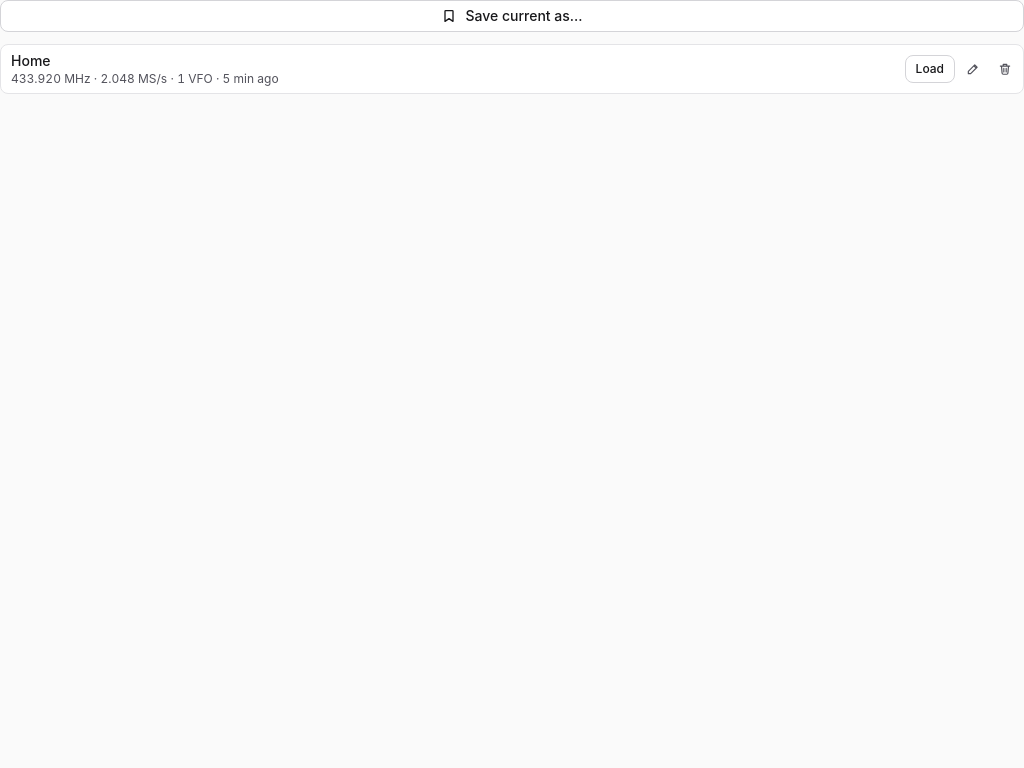
Test case: ProfilesPanel › cancelling the overwrite goes back to the name dialog
Expected: the text "Home" is shown, [11, 51, 50, 71]
Click the button "Save current as…" at (512, 16), box [0, 0, 1023, 32]
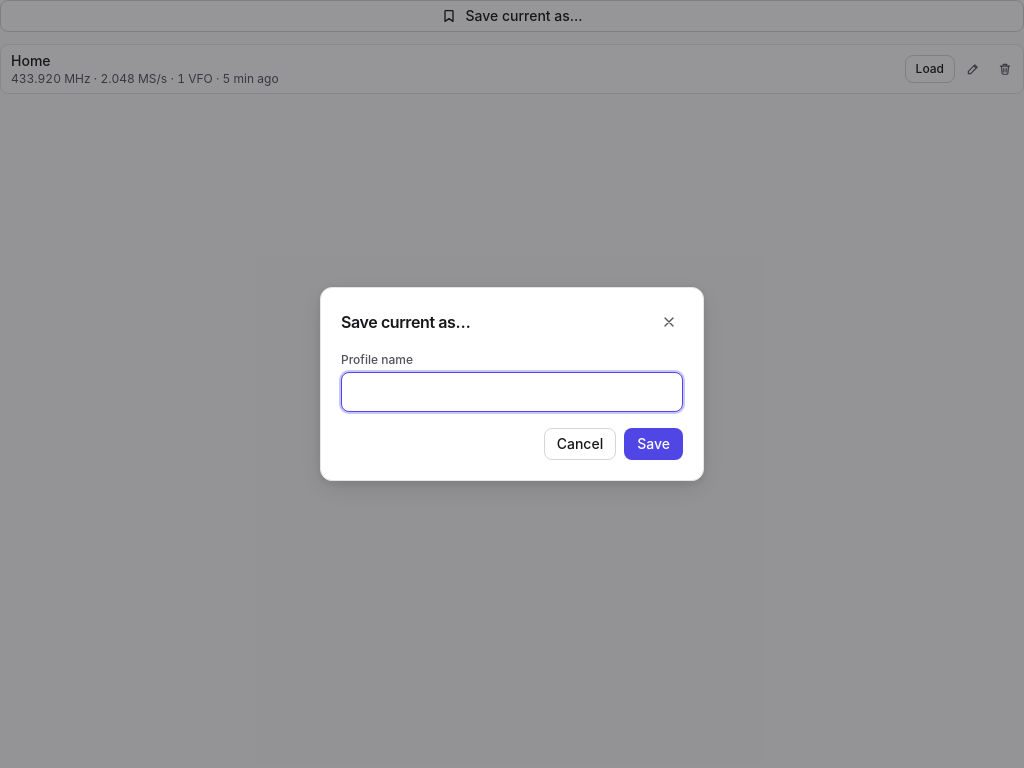
Type "Home" into the field labelled "Profile name" at (512, 392), box [342, 373, 682, 411]
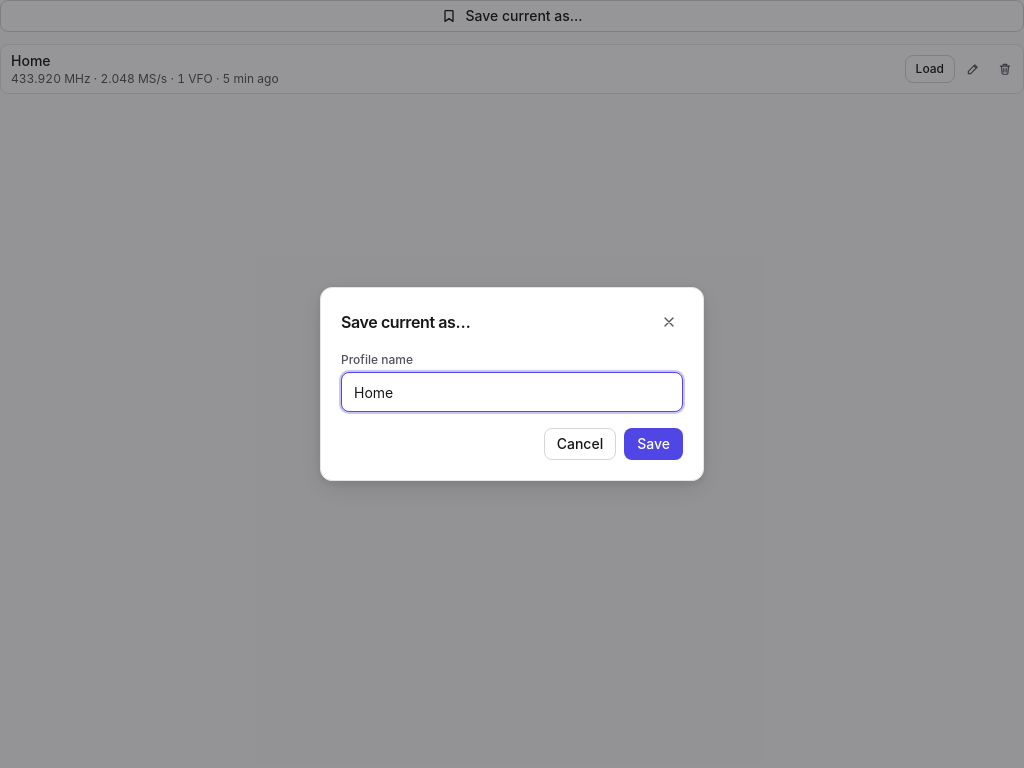
Click the button "Save" at (654, 444), box [624, 428, 683, 460]
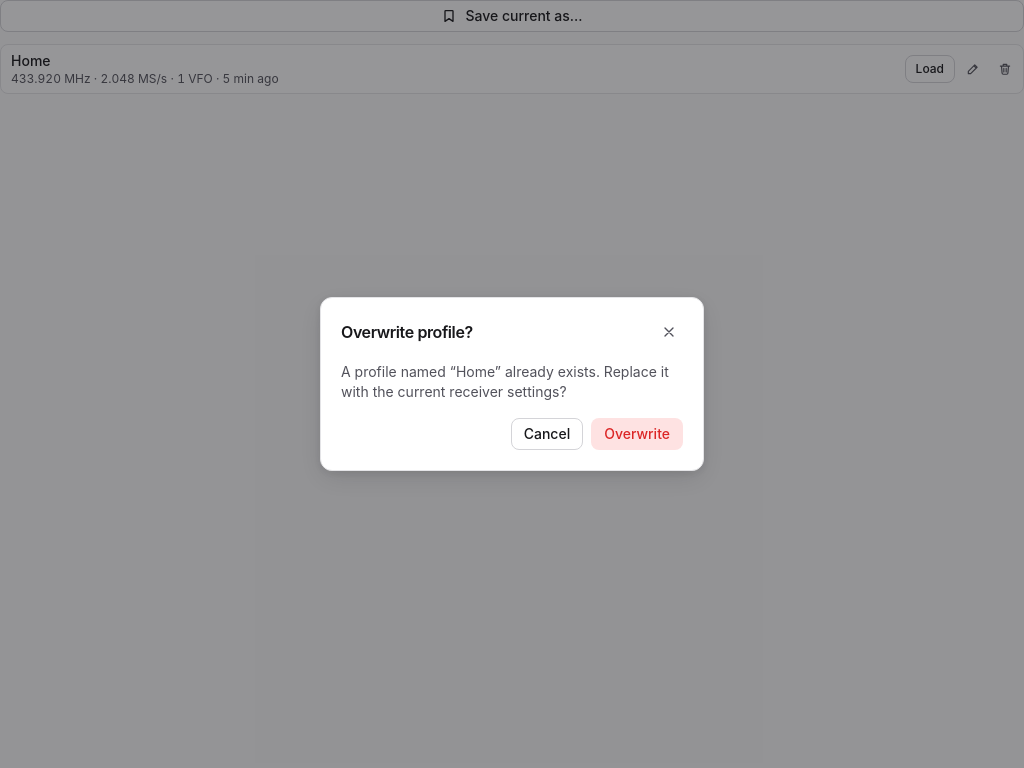
Click the button "Cancel" at (547, 434), box [511, 418, 583, 450]
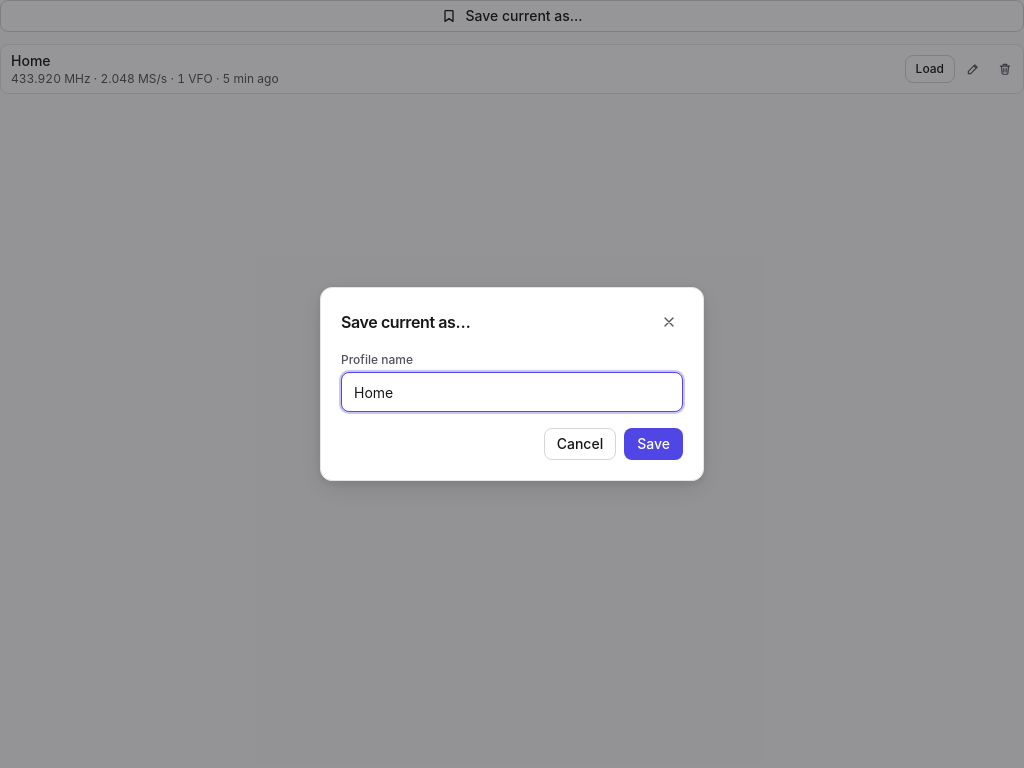
Now the field labelled "Profile name" holds "Home", box [342, 373, 682, 411]
